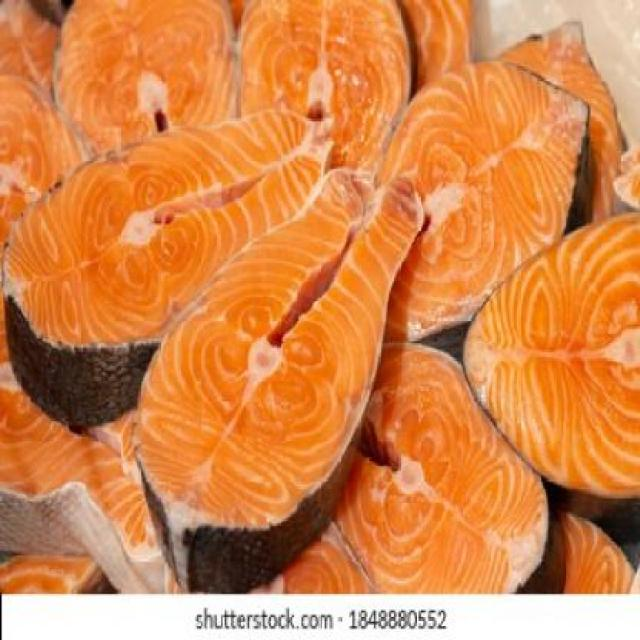salmon: (117, 168, 432, 547), (232, 290, 576, 594), (1, 106, 342, 412), (348, 46, 602, 371), (451, 186, 639, 506), (232, 3, 416, 293), (48, 3, 252, 257), (2, 52, 165, 366), (2, 348, 195, 599)
